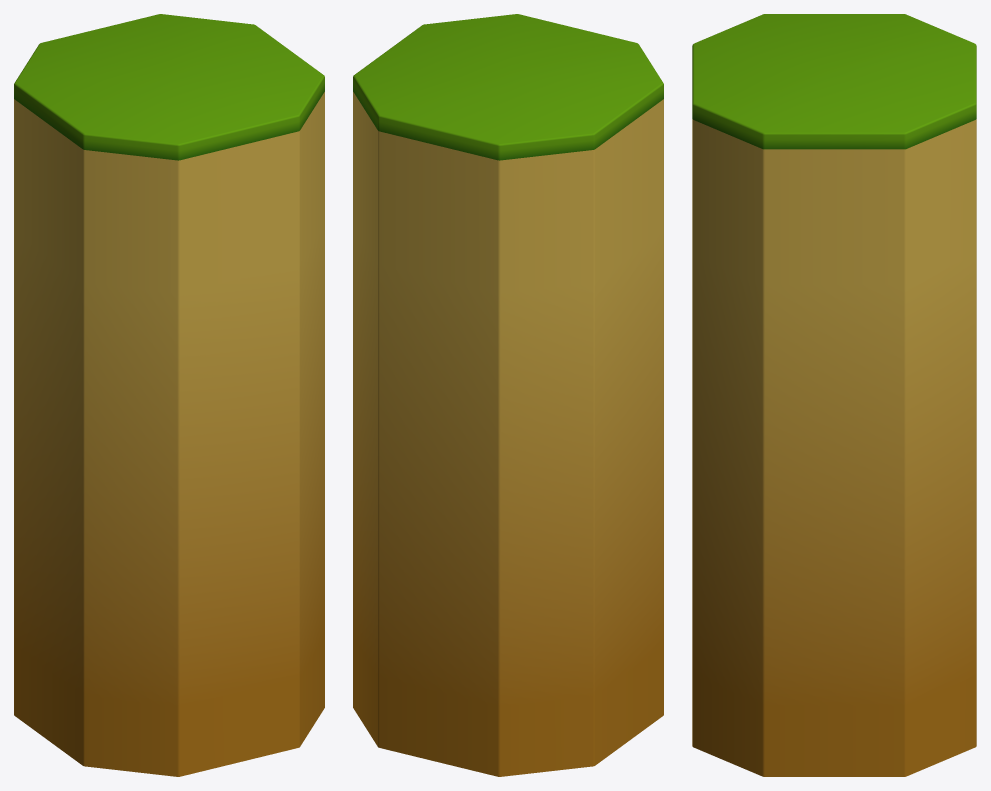
The model's file is LM20OCT.fbx.
The picture shows the model from 3 angles, left to right: view 1: azimuth 30°, elevation 25°; view 2: azimuth 150°, elevation 25°; view 3: azimuth 270°, elevation 25°; orthographic projection.
Parts seen in each view (by area): view 1: LOD0; view 2: LOD0; view 3: LOD0.
Part boxes in pixels (x1,y1,x2,y2): LOD0: [14, 14, 324, 776]; LOD0: [353, 14, 663, 776]; LOD0: [692, 14, 976, 776].
Size of what is drawn, in the model's own units: 2000 by 2000 by 5000.
